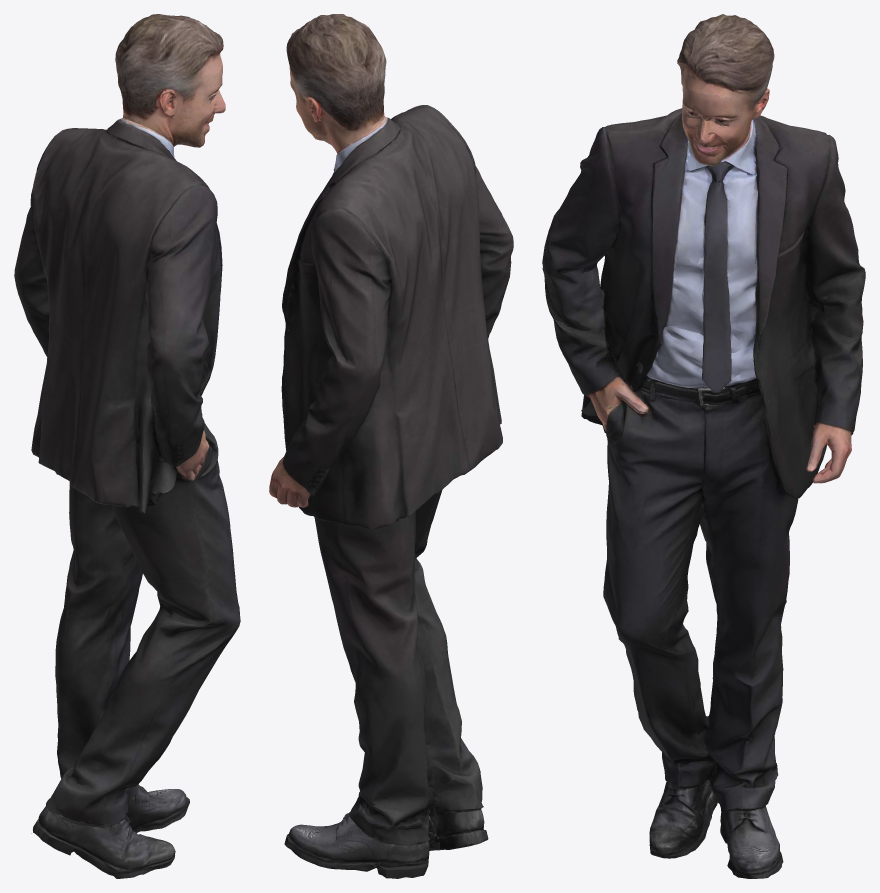
3 renders of one model, left to right at view 1: azimuth 30°, elevation 25°; view 2: azimuth 150°, elevation 25°; view 3: azimuth 270°, elevation 25°, orthographic. The views are drawn at different scales.
Parts seen in each view (by area): view 1: Mesh1_rp_dennis_posed_004_0; view 2: Mesh1_rp_dennis_posed_004_0; view 3: Mesh1_rp_dennis_posed_004_0.
Part boxes in pixels (x1,y1,x2,y2): Mesh1_rp_dennis_posed_004_0: [14, 14, 240, 878]; Mesh1_rp_dennis_posed_004_0: [269, 14, 513, 878]; Mesh1_rp_dennis_posed_004_0: [542, 14, 865, 878].
Size of the model in its own units: 45.88 by 187 by 64.19.
Materials: 1 (1 with a texture image).
